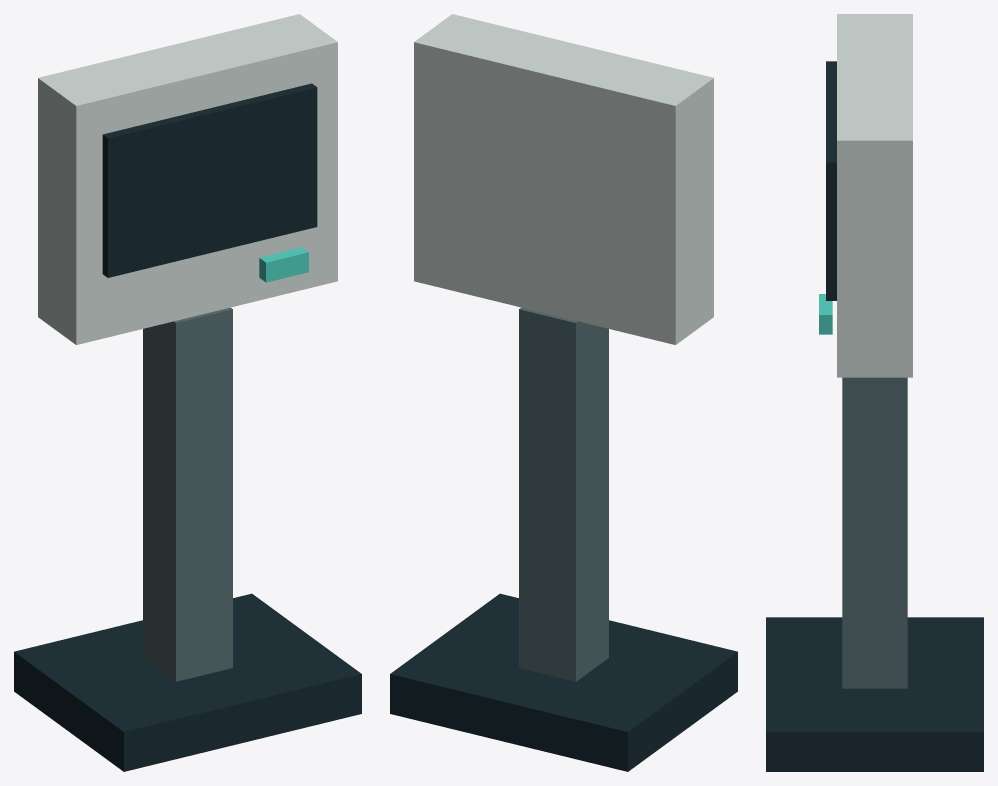
File: exposure-monitor.glb
3 renders of one model, left to right at view 1: azimuth 30°, elevation 25°; view 2: azimuth 150°, elevation 25°; view 3: azimuth 270°, elevation 25°, orthographic.
Parts seen in each view (by area): view 1: display_body, base, stand, screen, indicator; view 2: display_body, base, stand; view 3: base, display_body, stand, screen, indicator.
Boxes of the visible parts, x1=… form: display_body: x1=38, y1=14, x2=337, y2=344; base: x1=14, y1=593, x2=361, y2=771; stand: x1=143, y1=307, x2=232, y2=681; screen: x1=102, y1=83, x2=317, y2=277; indicator: x1=259, y1=247, x2=308, y2=282; display_body: x1=414, y1=14, x2=713, y2=344; base: x1=390, y1=593, x2=737, y2=771; stand: x1=519, y1=307, x2=608, y2=681; base: x1=766, y1=617, x2=983, y2=771; display_body: x1=837, y1=14, x2=912, y2=377; stand: x1=842, y1=377, x2=907, y2=688; screen: x1=826, y1=61, x2=836, y2=300; indicator: x1=819, y1=294, x2=832, y2=334.
Size of the model in its own units: 0.55 by 1.29 by 0.4.
